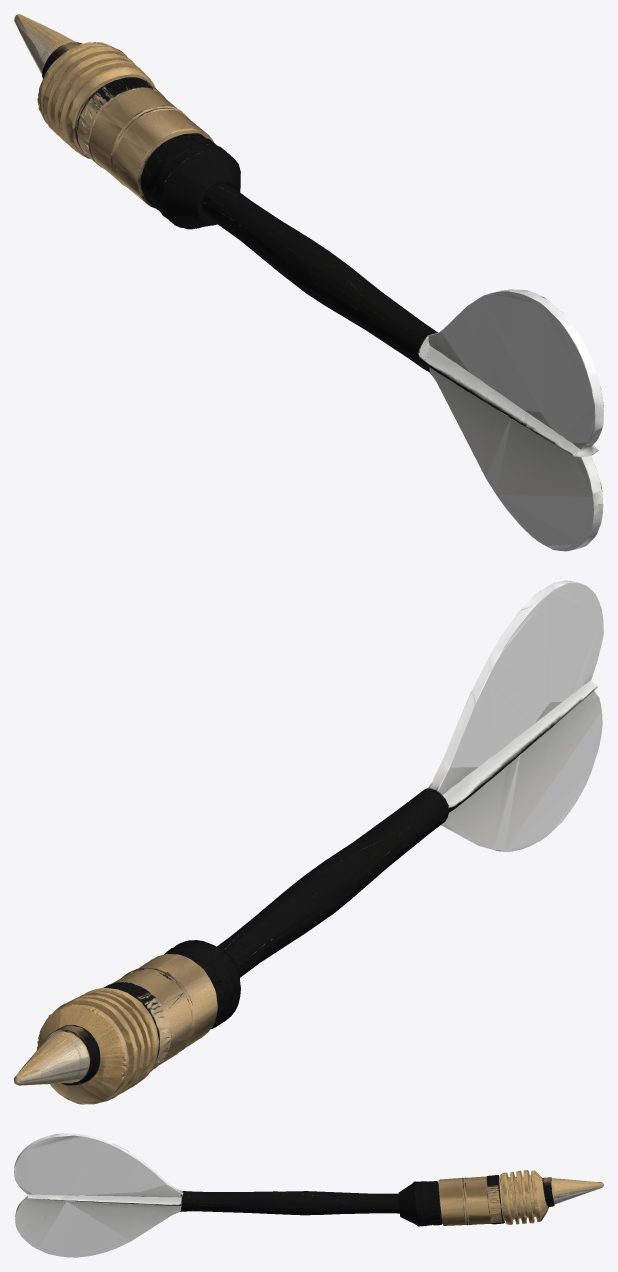
File: dart-soft.glb
3 views of the same model, one above another, from view 1: azimuth 30°, elevation 25°; view 2: azimuth 150°, elevation 25°; view 3: azimuth 270°, elevation 25° (orthographic). The views are drawn at different scales.
Parts seen in each view (by area): view 1: dart; view 2: dart; view 3: dart.
Part boxes in pixels (x1=…): dart: x1=14, y1=14, x2=603, y2=551; dart: x1=14, y1=580, x2=603, y2=1104; dart: x1=14, y1=1133, x2=603, y2=1257.
Bounding box in the file's own units: 0.0145 × 0.0366 × 0.16.
2 materials, 1 textured.
